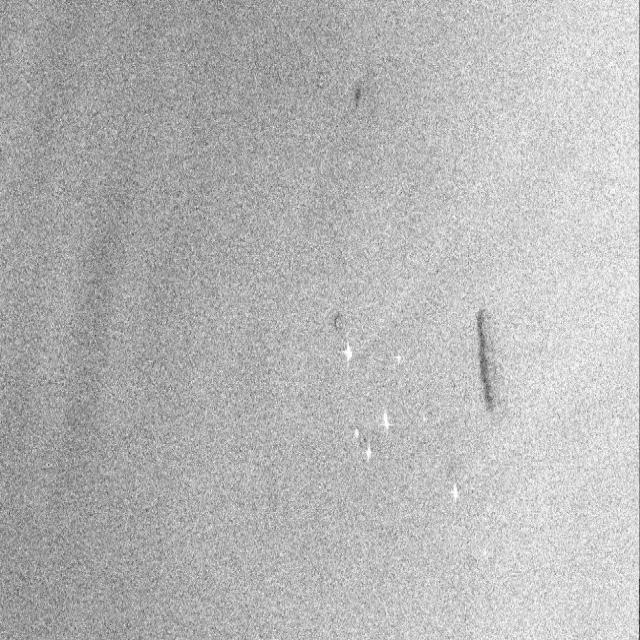oil-spill: (471, 302, 506, 418)
ship: (336, 336, 354, 368), (447, 476, 463, 510), (391, 347, 408, 371), (364, 438, 374, 471), (380, 409, 390, 436), (351, 423, 360, 444)
